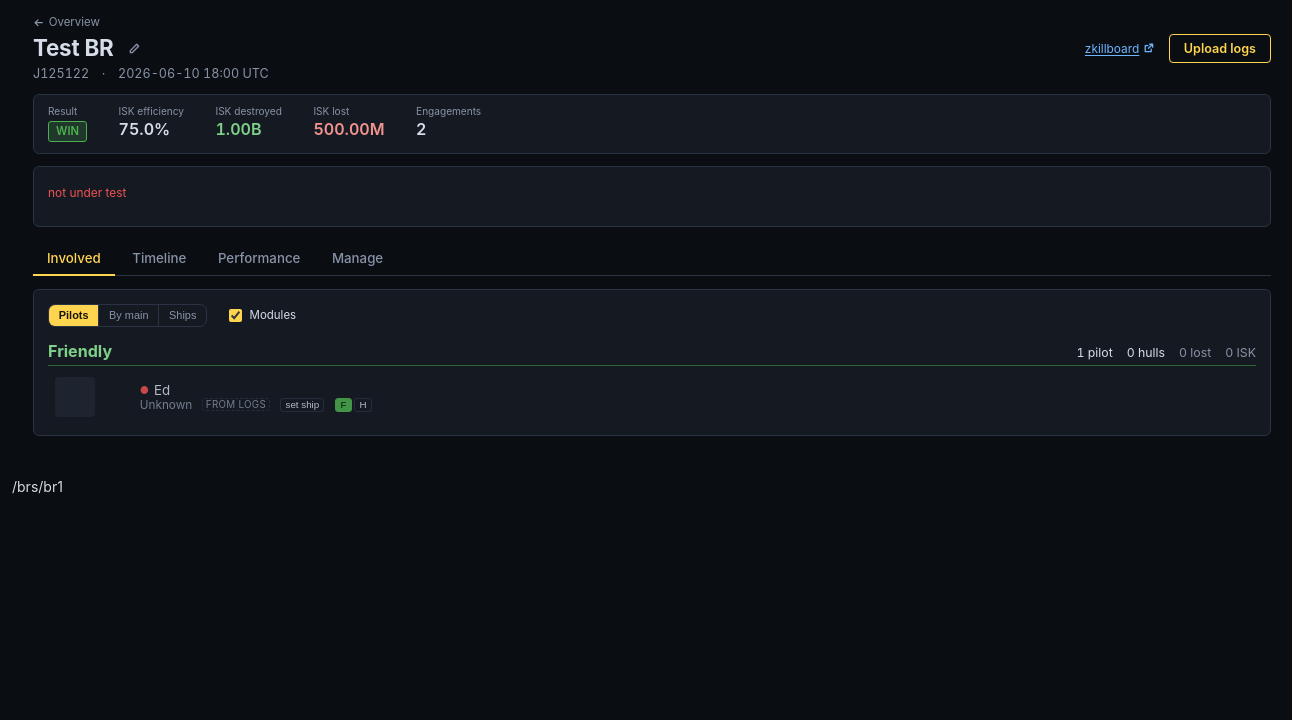
Scenario: BrDetailPage › a side change makes the timeline refetch instead of reusing prefetched data
The width and height of the screenshot is (1292, 720).
Step 1. Click the button "H" → [363, 405], box 354,398 -> 372,412
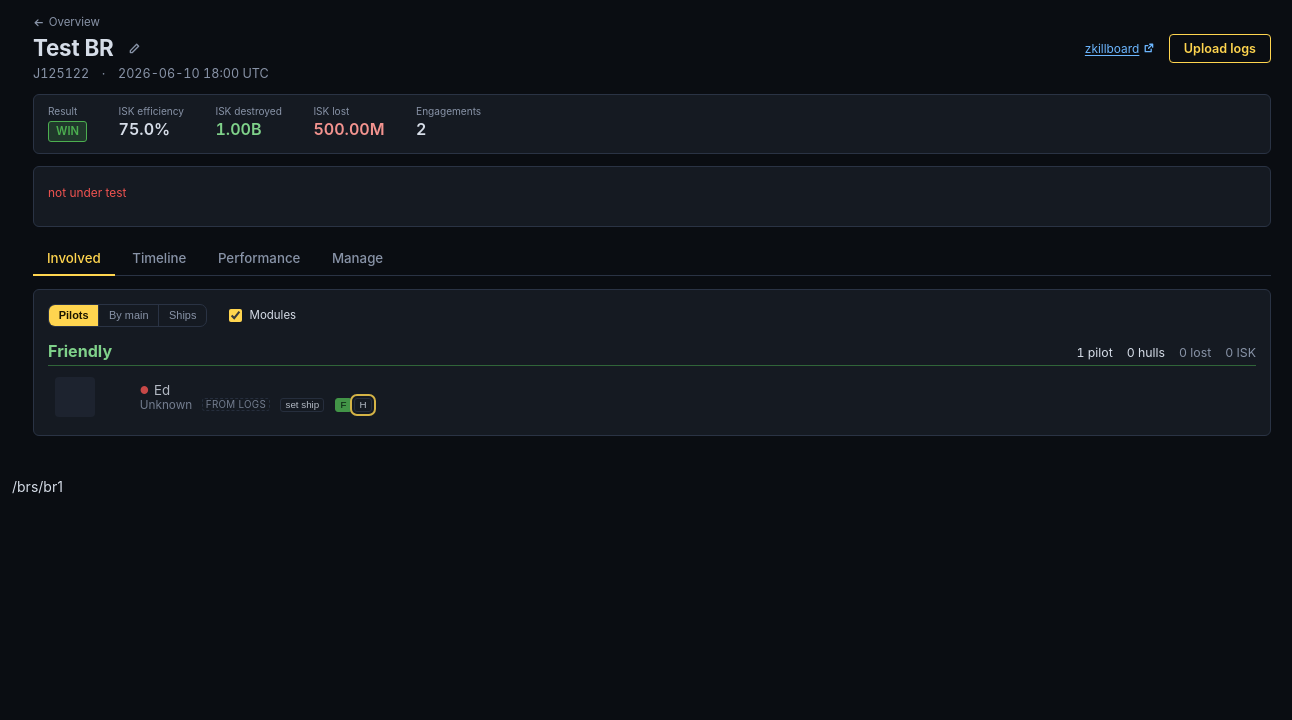
Step 2. Click the link with test id "tab-timeline" → [159, 258], box 132,250 -> 186,266
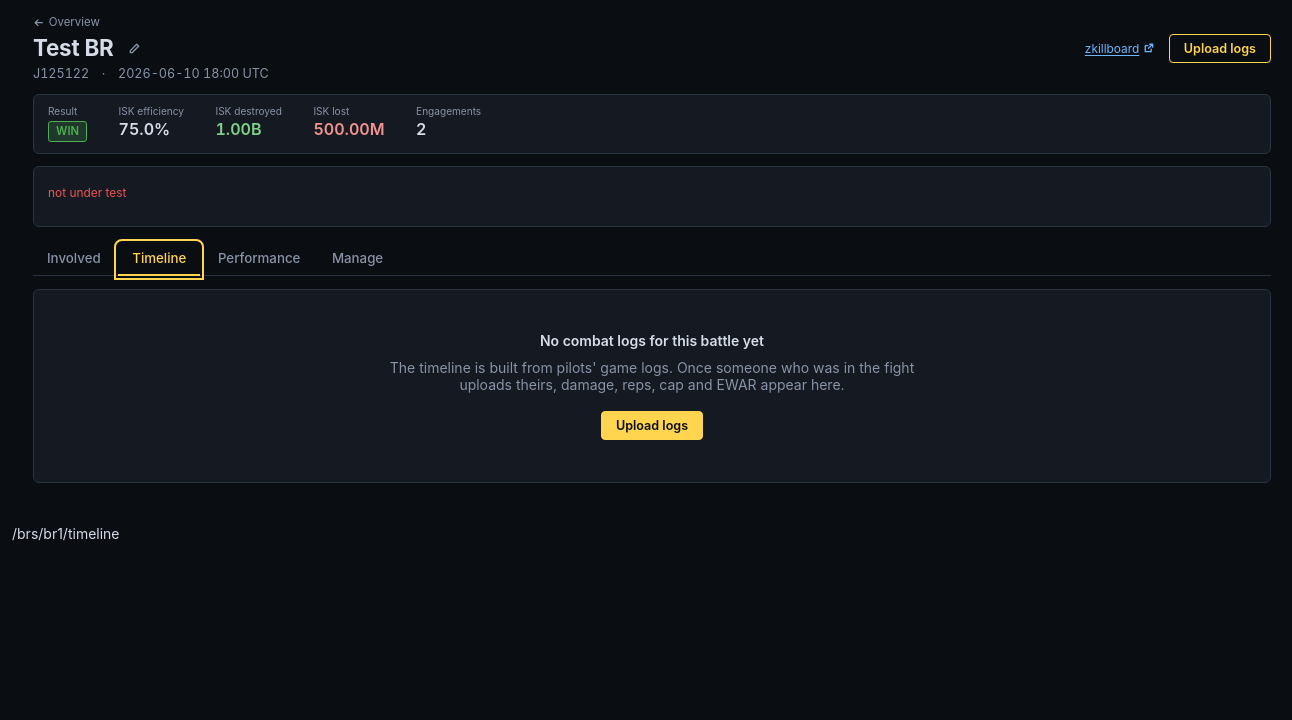
Expected: the element with test id "timeline-empty" is shown, 33,289 -> 1271,483
